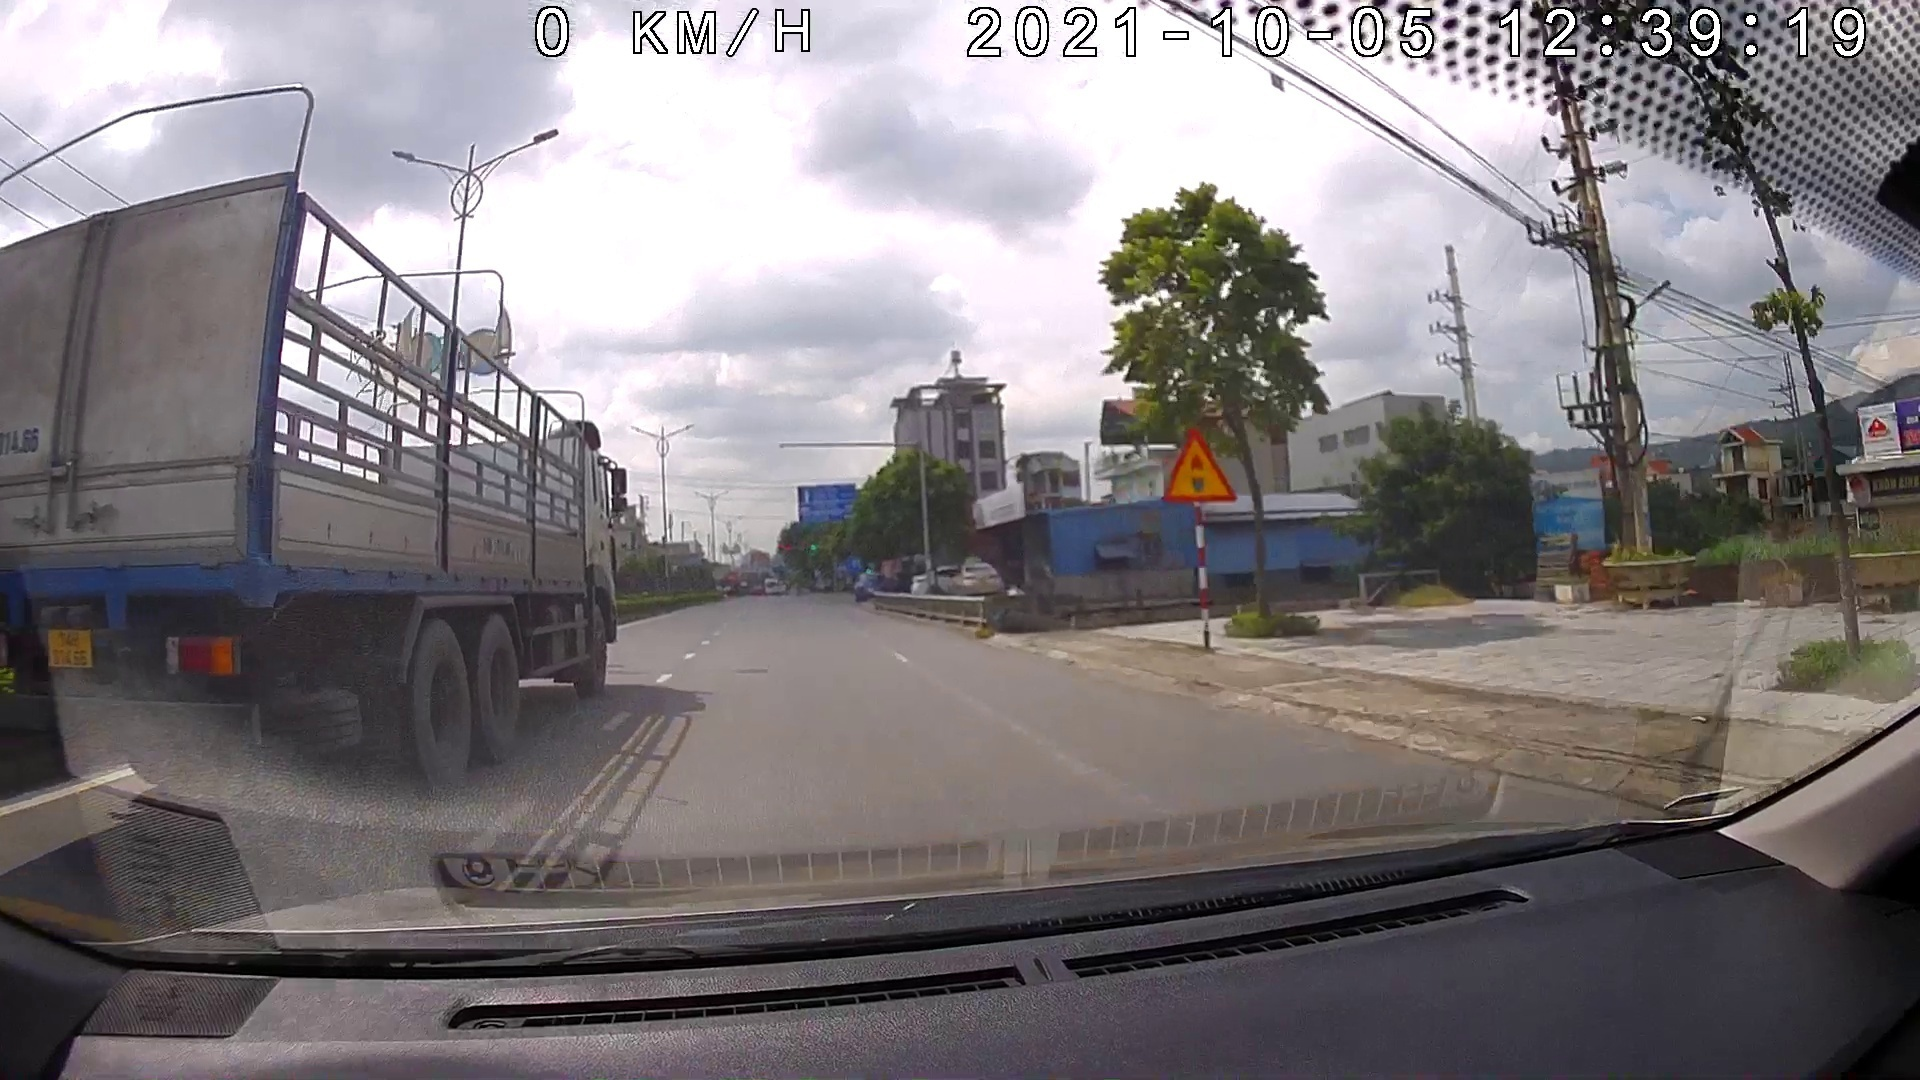Bien khac: (1164, 426, 1236, 502)
